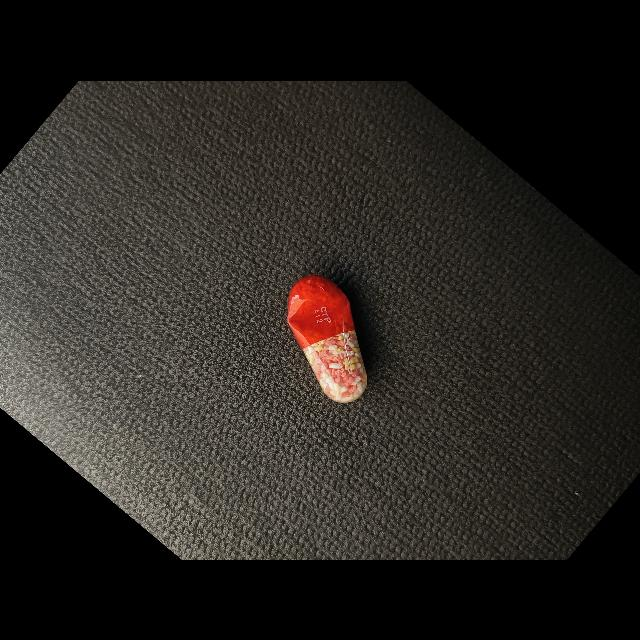Defective Capsule: (287, 275, 367, 389)
